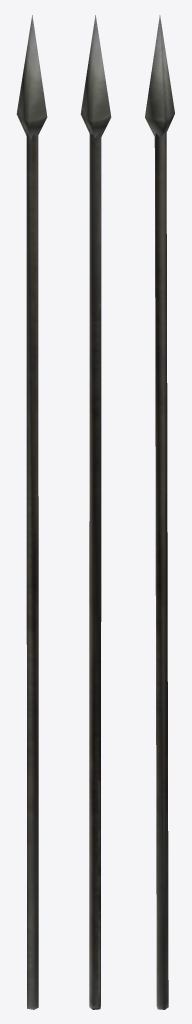
The model's file is GY_changmao.fbx.
The picture shows the model from 3 angles, left to right: view 1: azimuth 30°, elevation 25°; view 2: azimuth 210°, elevation 25°; view 3: azimuth 330°, elevation 25°; orthographic projection.
Parts seen in each view (by area): view 1: GY_changmao; view 2: GY_changmao; view 3: GY_changmao.
Boxes of the visible parts, left/top/right/bottom form: GY_changmao: left=16, top=15, right=47, bottom=1009; GY_changmao: left=80, top=15, right=111, bottom=1009; GY_changmao: left=145, top=15, right=174, bottom=1009.
Bounding box in the file's own units: 5.69 × 272 × 5.69.
